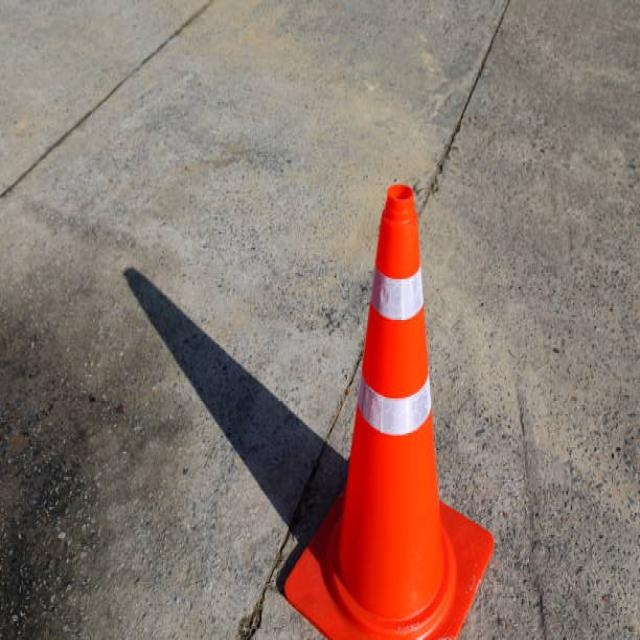Traffic Cone: (270, 111, 522, 640)
